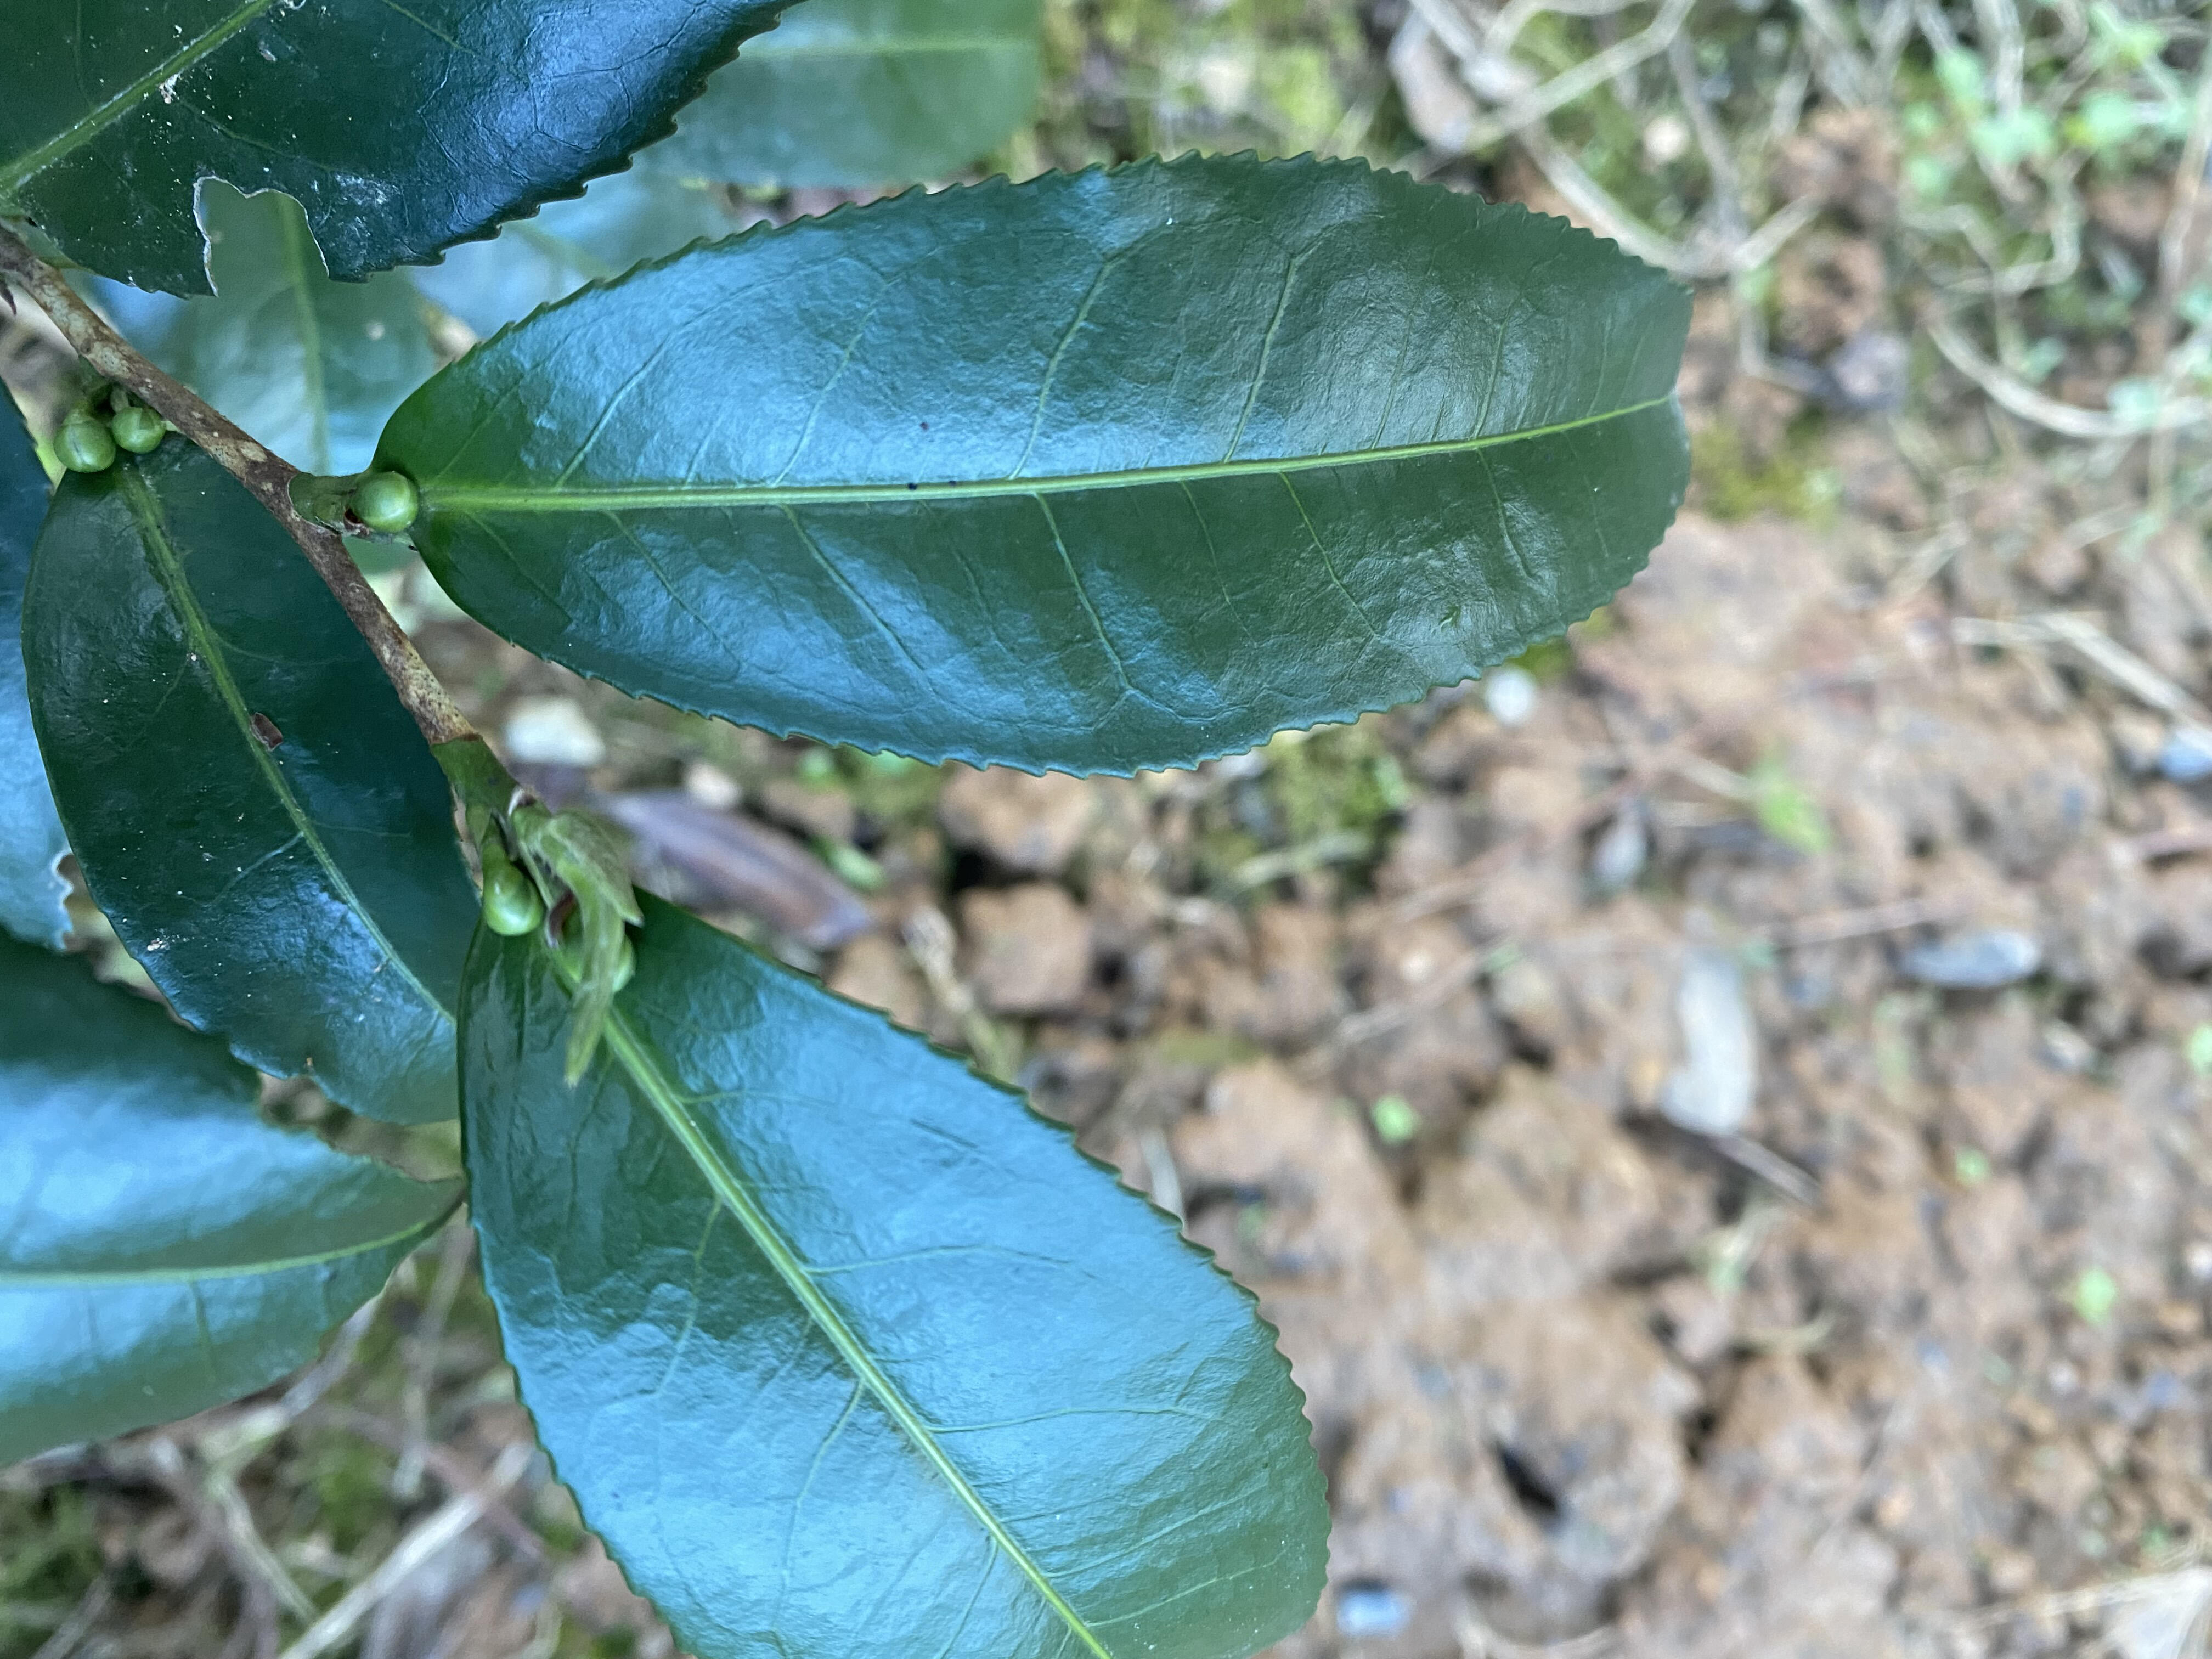chihuo_low: (5, 7, 801, 298)
healthy: (376, 150, 1696, 784), (455, 875, 1327, 1656), (5, 920, 472, 1476)
